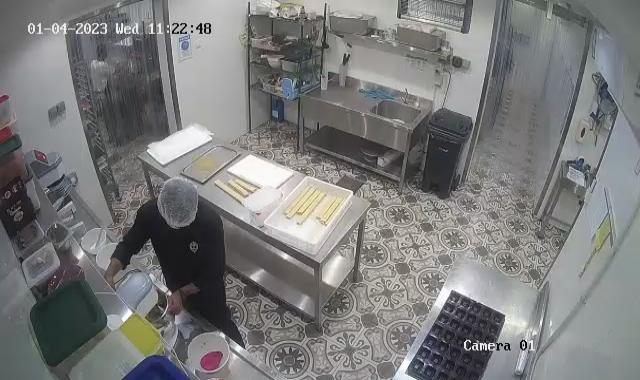hairnet: (154, 175, 201, 228)
